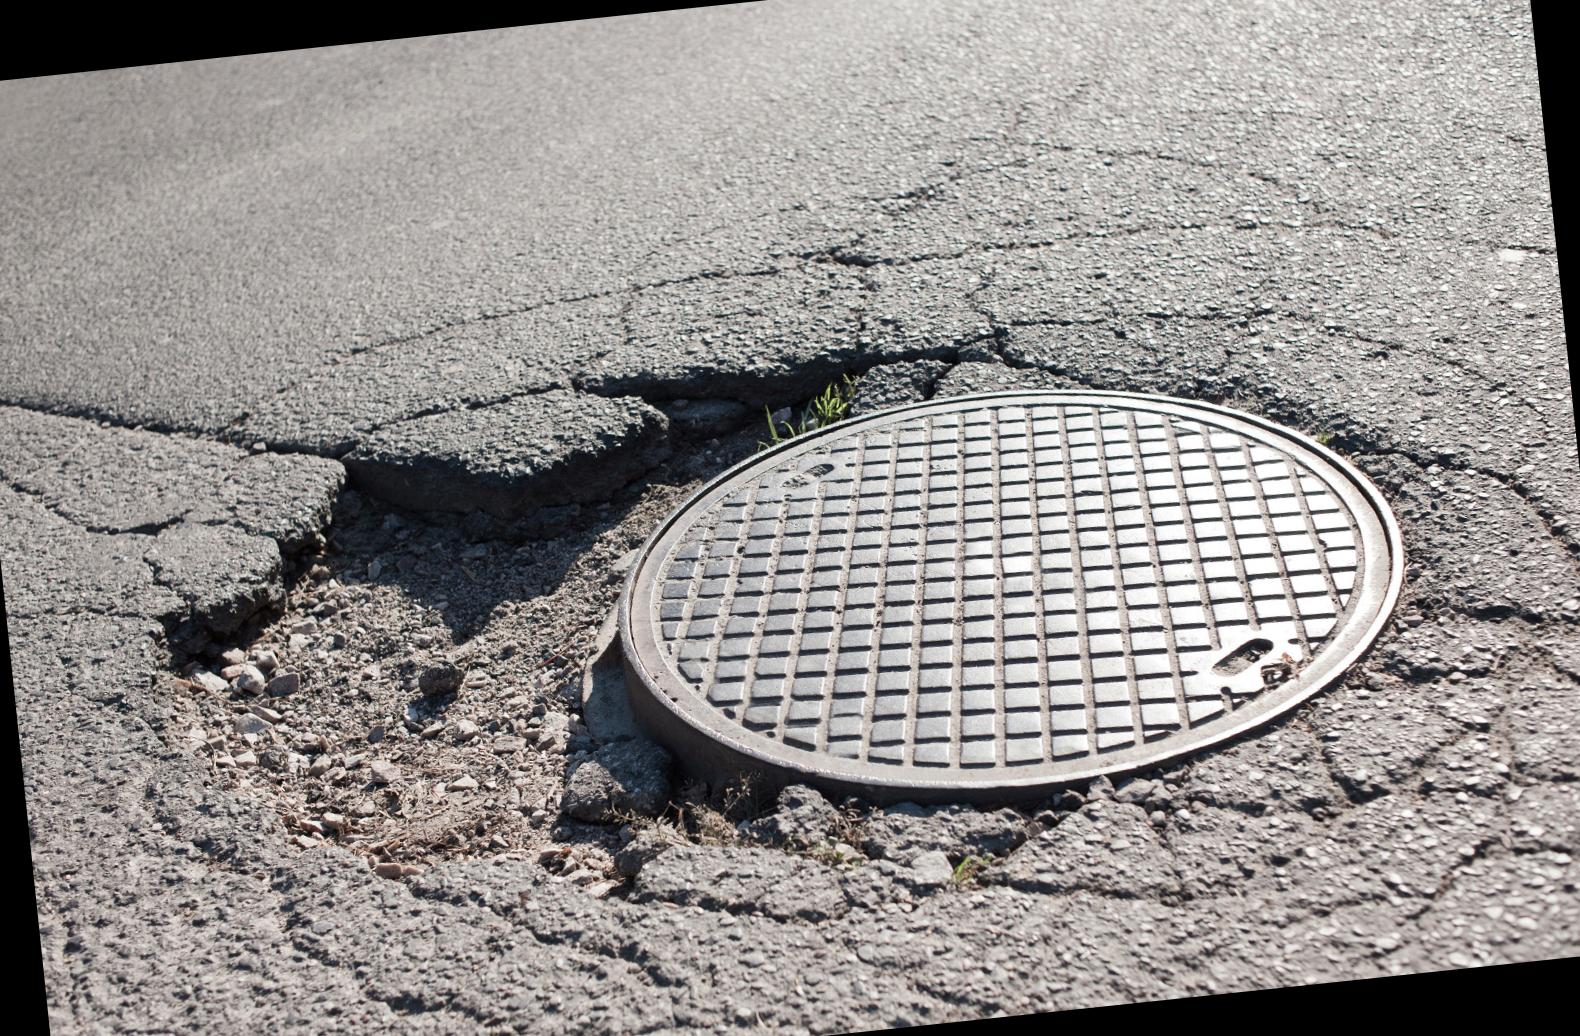pothole: (34, 198, 1105, 996)
